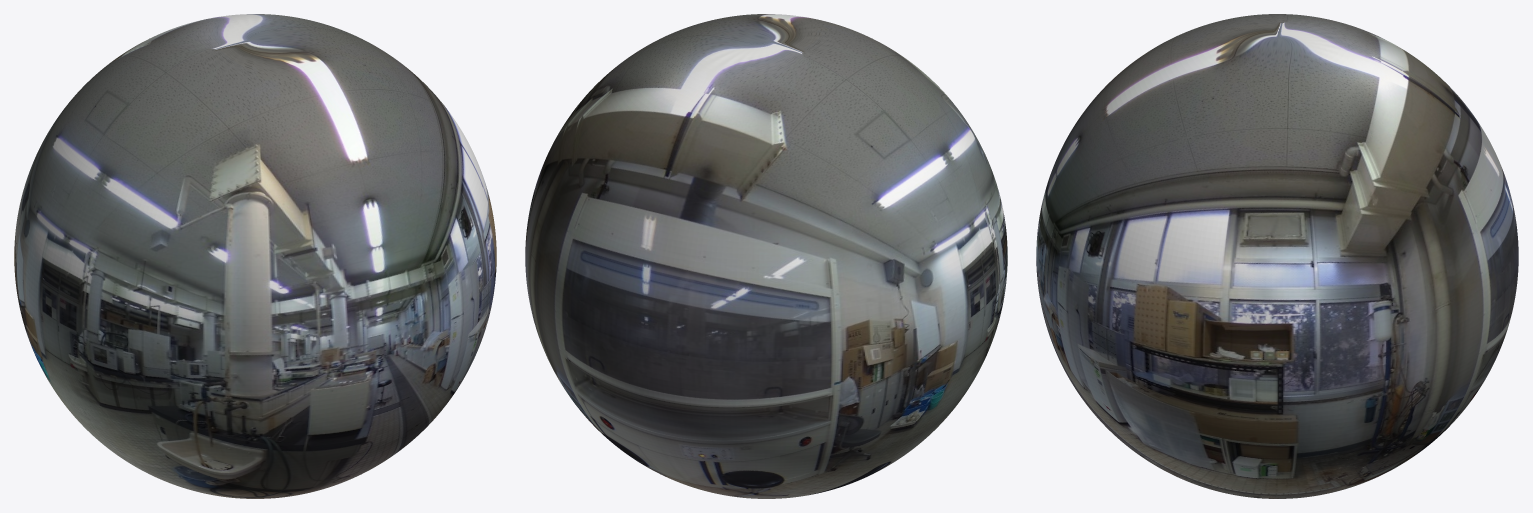
The model's file is kagakusitu-2.fbx.
3 views of the same model, side by side, from view 1: azimuth 30°, elevation 25°; view 2: azimuth 150°, elevation 25°; view 3: azimuth 270°, elevation 25° (orthographic).
Parts seen in each view (by area): view 1: 球; view 2: 球; view 3: 球.
Part boxes in pixels (x1,y1,x2,y2): 球: (14,14,496,498); 球: (525,14,1007,498); 球: (1036,14,1518,498).
Bounding box in the file's own units: 197 × 196 × 197.
Materials: 1 (1 with a texture image).
